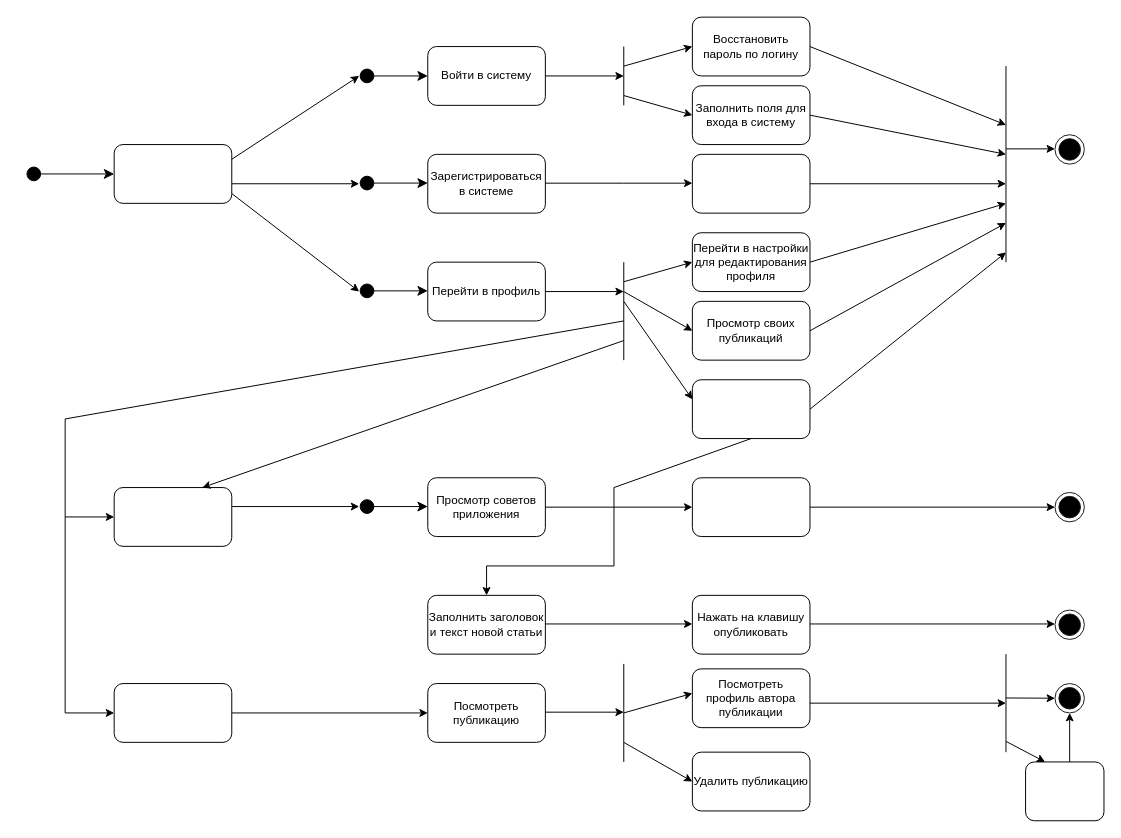
Some shapes in this 1121 by 838 pixel diagram are drawn without their labels. Here are the shapes that lost their labels. From the top down, the centre of each, then its label:
[172,173]: Войти в личный кабинет
[750,183]: Заполнить форму для регистрации
[750,409]: Создание новой публикации
[172,516]: Перейти на Главную страницу
[750,507]: Перейти на текст совета приложения
[172,712]: Перейти на страницу "Публикации"
[1064,791]: Удалить профиль
